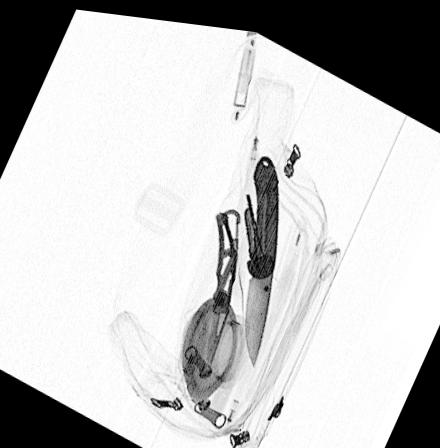Knife: (243, 149, 278, 360), (205, 202, 240, 365)
